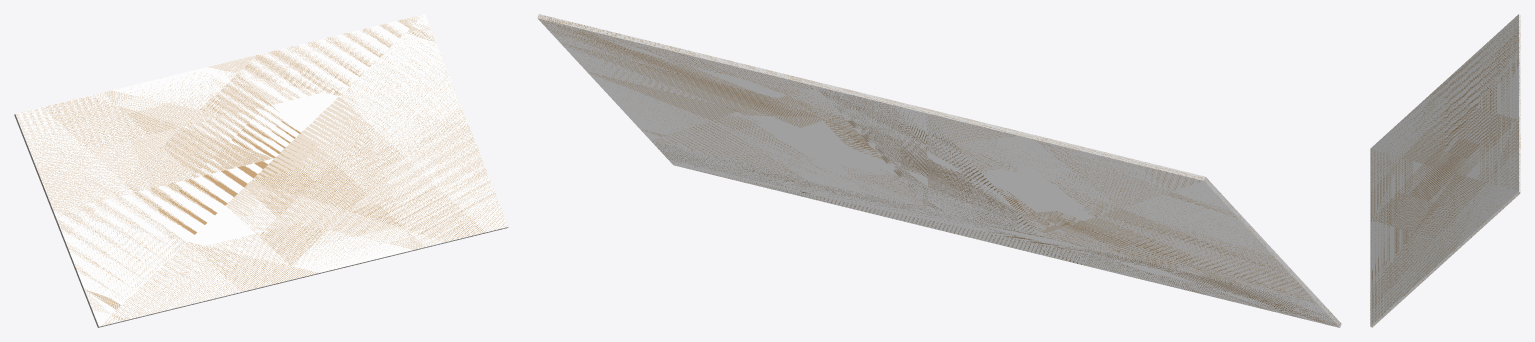
The model's file is original-2.obj.
The picture shows the model from 3 angles, left to right: view 1: azimuth 30°, elevation 25°; view 2: azimuth 150°, elevation 25°; view 3: azimuth 270°, elevation 25°; orthographic projection. The views are drawn at different scales.
Parts seen in each view (by area): view 1: Box_Top2/Box_Top/mesh1/mesh1-geometry#mesh1-geometry; view 2: Box_Top2/Box_Top/mesh1/mesh1-geometry#mesh1-geometry; view 3: Box_Top2/Box_Top/mesh1/mesh1-geometry#mesh1-geometry.
Boxes of the visible parts, left/top/right/bottom form: Box_Top2/Box_Top/mesh1/mesh1-geometry#mesh1-geometry: left=14, top=14, right=508, bottom=327; Box_Top2/Box_Top/mesh1/mesh1-geometry#mesh1-geometry: left=537, top=14, right=1341, bottom=327; Box_Top2/Box_Top/mesh1/mesh1-geometry#mesh1-geometry: left=1370, top=14, right=1520, bottom=327.
Bounding box in the file's own units: 1.05 × 0.3759 × 0.3759.
